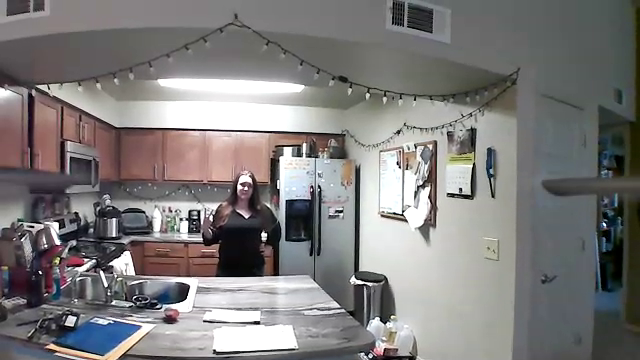peace: (197, 205, 218, 233)
